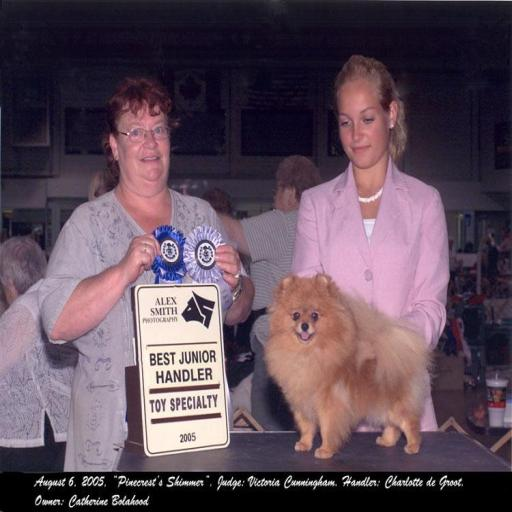dog_face: (278, 270, 330, 344)
